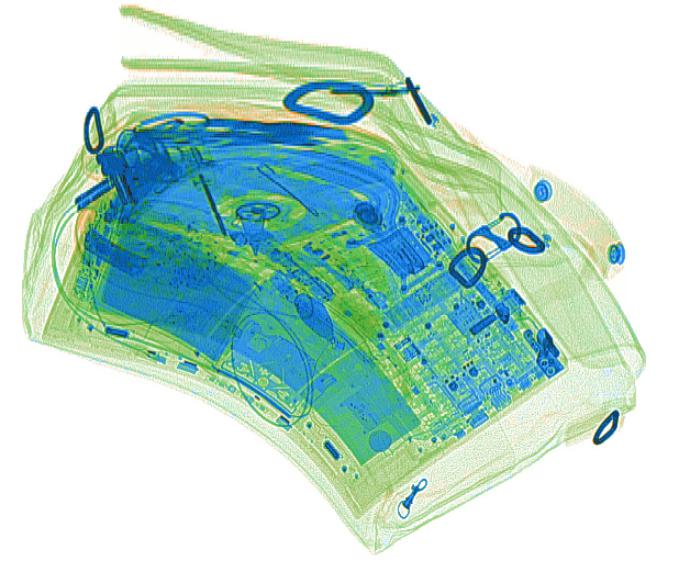battery: (80, 228, 148, 280)
